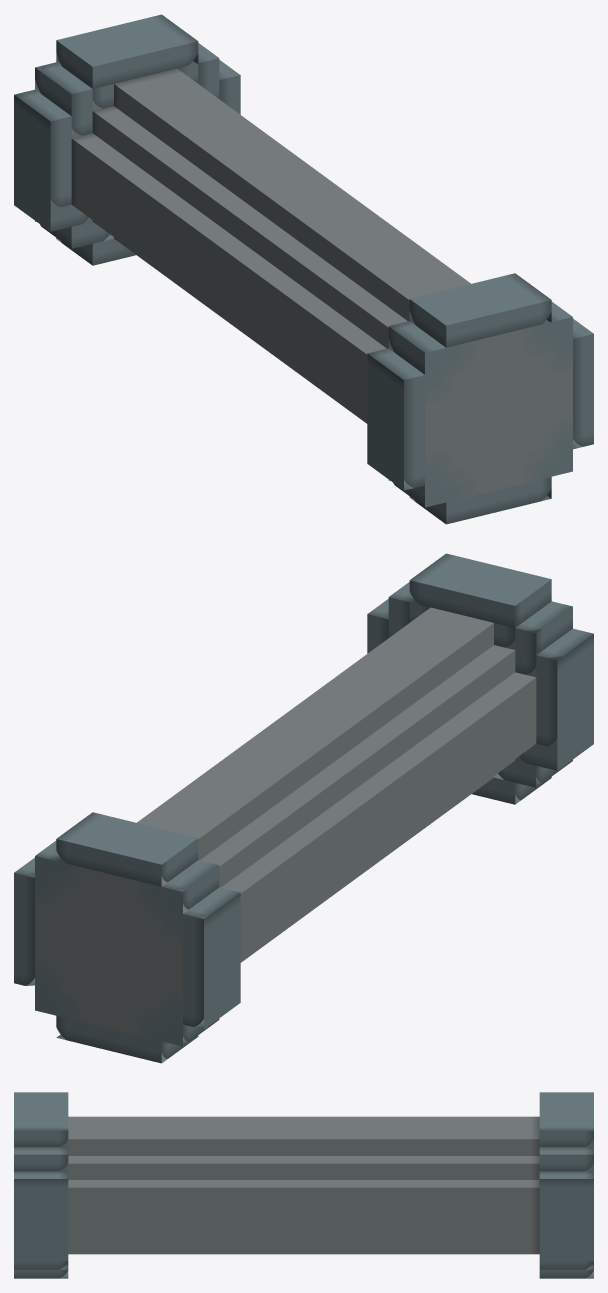
Rendered from RURA_PROSTO.dae.
3 renders of one model, top to bottom at view 1: azimuth 30°, elevation 25°; view 2: azimuth 150°, elevation 25°; view 3: azimuth 270°, elevation 25°, orthographic. The views are drawn at different scales.
Parts seen in each view (by area): view 1: Content; view 2: Content; view 3: Content.
Boxes of the visible parts, x1,y1,x2,y2 form: Content: (14, 14, 593, 524); Content: (14, 553, 593, 1063); Content: (14, 1092, 593, 1278).
Size of the model in its own units: 9 by 9 by 32.
1 material, 1 textured.
